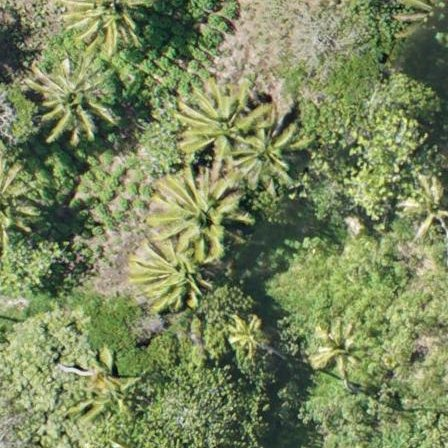palm_tree: (161, 173, 244, 255), (176, 81, 257, 158), (33, 65, 108, 137), (137, 243, 208, 314), (73, 1, 146, 47), (310, 327, 360, 372), (404, 185, 448, 235), (227, 315, 270, 360)
